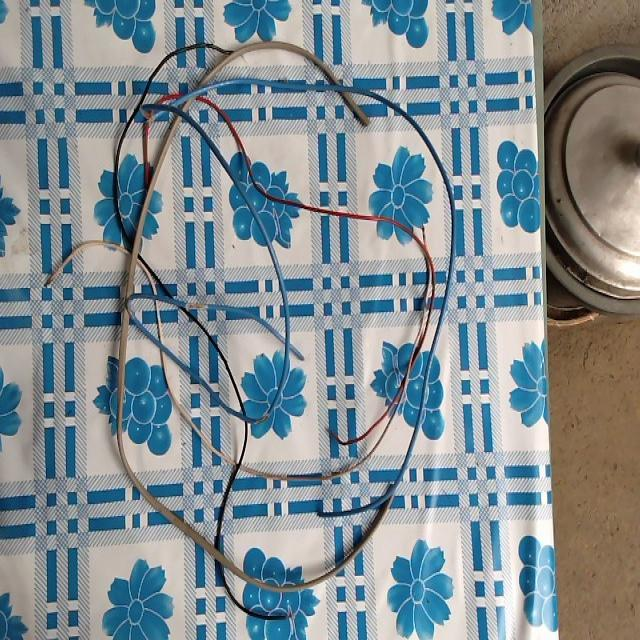-: (184, 296, 210, 317), (253, 408, 271, 432), (39, 274, 54, 294), (282, 609, 294, 623)
